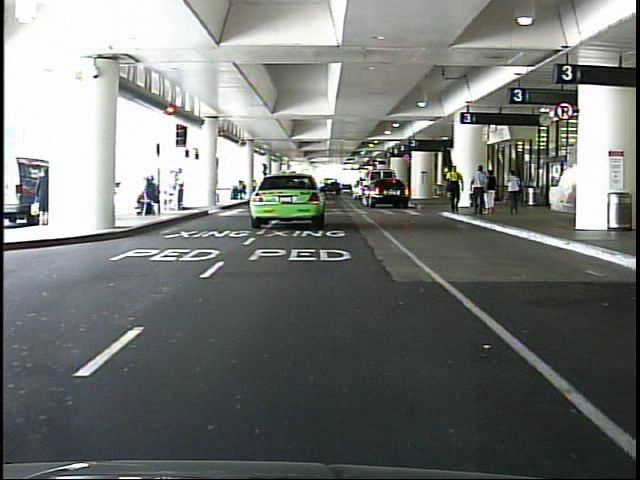person: (33, 168, 62, 226), (443, 161, 467, 219), (498, 168, 524, 218), (470, 161, 490, 219), (174, 168, 192, 215), (484, 166, 500, 218)
